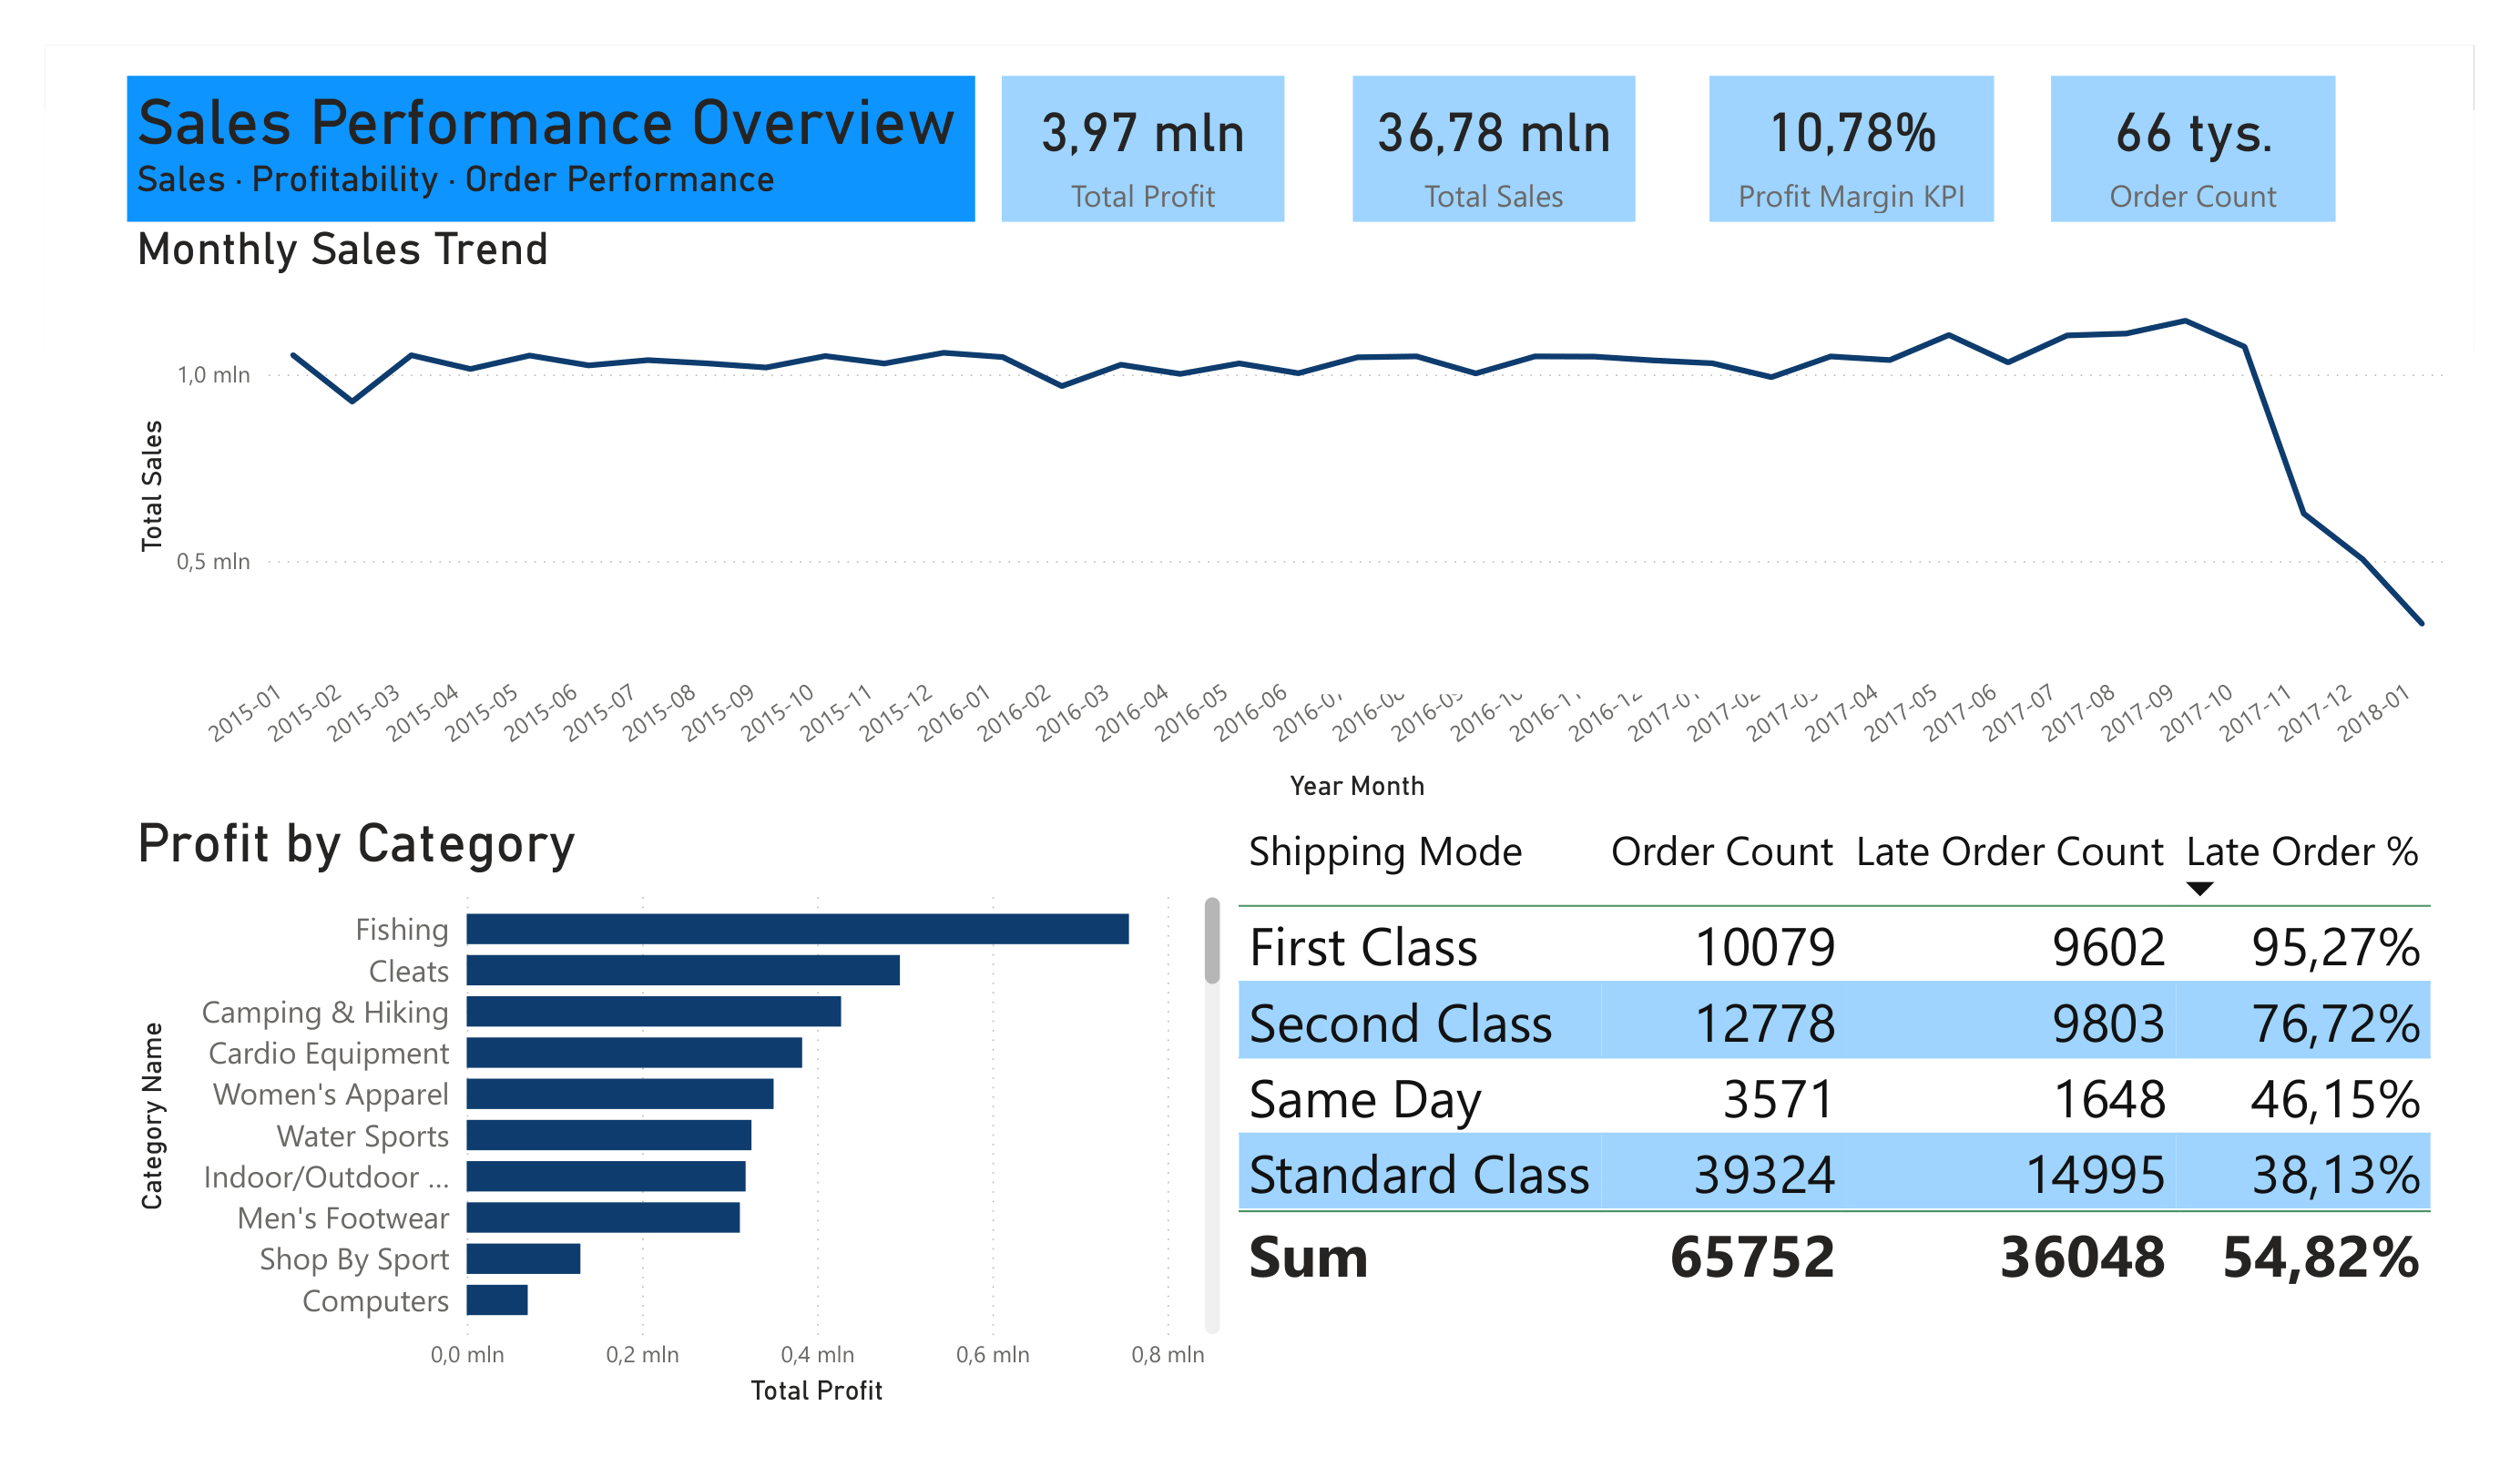

What the dashboard file says about the page in this screenshot:
{"tool":"powerbi","page":{"name":"Executive Order","canvas":[1280,720],"ordinal":0},"visuals":[{"type":"card","fields":{"Values":["FactSales.Total Sales"]},"box":[688.6,16.2,149.9,77],"z":0},{"type":"card","fields":{"Values":["FactSales.Total Profit"]},"box":[504.3,16.2,149,77],"z":1000},{"type":"card","fields":{"Values":["FactSales.Order Count"]},"box":[1057.2,16.2,149.9,77],"z":2000},{"type":"card","fields":{"Values":["FactSales.Profit Margin KPI"]},"box":[877,16.2,149.9,77],"z":3000},{"type":"textbox","box":[42.5,16.2,447.6,77],"z":4000},{"type":"lineChart","title":"Monthly Sales Trend","fields":{"Y":["FactSales.Total Sales"],"Category":["TabDate.Year Month"]},"box":[42.5,93.2,1227.3,309.9],"z":5000},{"type":"clusteredBarChart","title":"Profit by Category","fields":{"Y":["FactSales.Total Profit"],"Category":["FactSales.Category Name"]},"box":[42.5,403,581.3,318],"z":6000},{"type":"tableEx","fields":{"Values":["TabShipping.Shipping Mode","FactSales.Order Count","FactSales.Late Order Count","FactSales.Late Order %"]},"box":[623.4,403.2,657.4,317.4],"z":7000},{"type":"textbox","box":[672,275.3,280.1,66.4],"z":8000},{"type":"textbox","box":[741.6,275.3,241.3,55.1],"z":9000}]}

Visuals, with their boxes on the page's 1280x720 design canvas (x1, y1, x2, y2). These are canvas units, not pixel positions in the 2520x1457 screenshot, which may show the page scaled, cropped or inside an application window:
card - FactSales.Total Sales: 689:16:838:93
card - FactSales.Total Profit: 504:16:653:93
card - FactSales.Order Count: 1057:16:1207:93
card - FactSales.Profit Margin KPI: 877:16:1027:93
textbox: 42:16:490:93
"Monthly Sales Trend" lineChart: 42:93:1270:403
"Profit by Category" clusteredBarChart: 42:403:624:721
tableEx - TabShipping.Shipping Mode x FactSales.Order Count: 623:403:1281:721
textbox: 672:275:952:342
textbox: 742:275:983:330
